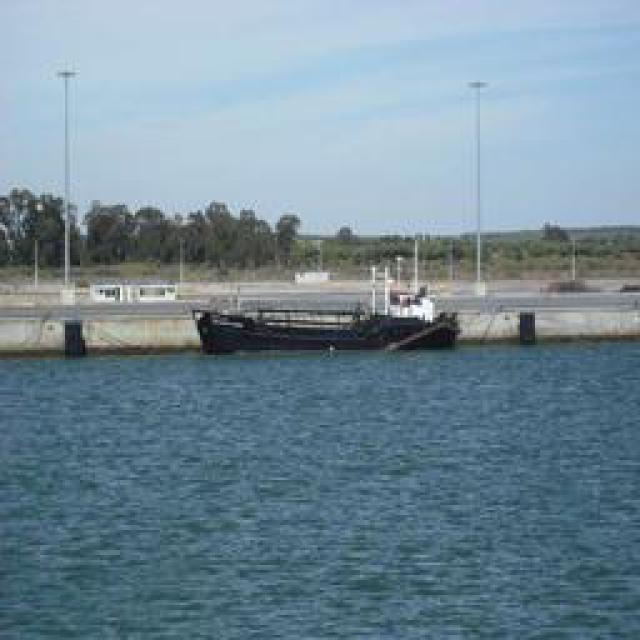Ship: (197, 282, 468, 361)
